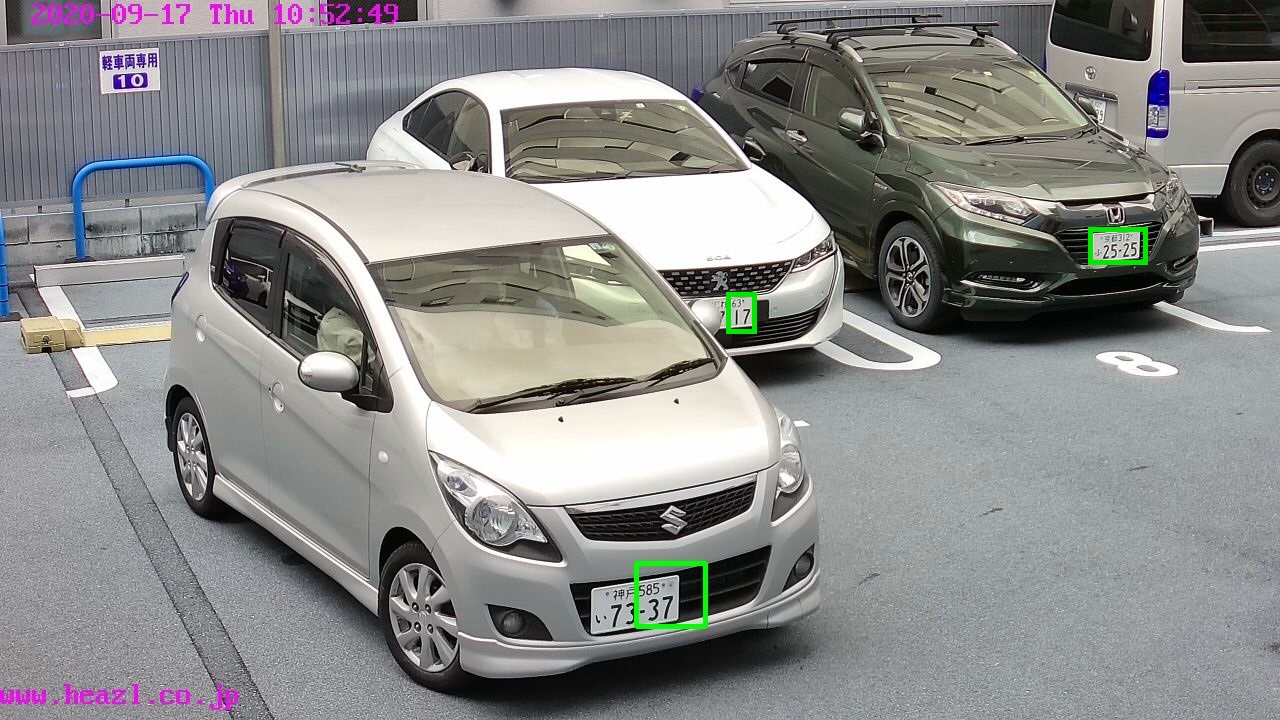number_plate: (590, 577, 682, 627), (714, 296, 756, 327), (1094, 232, 1142, 259)
